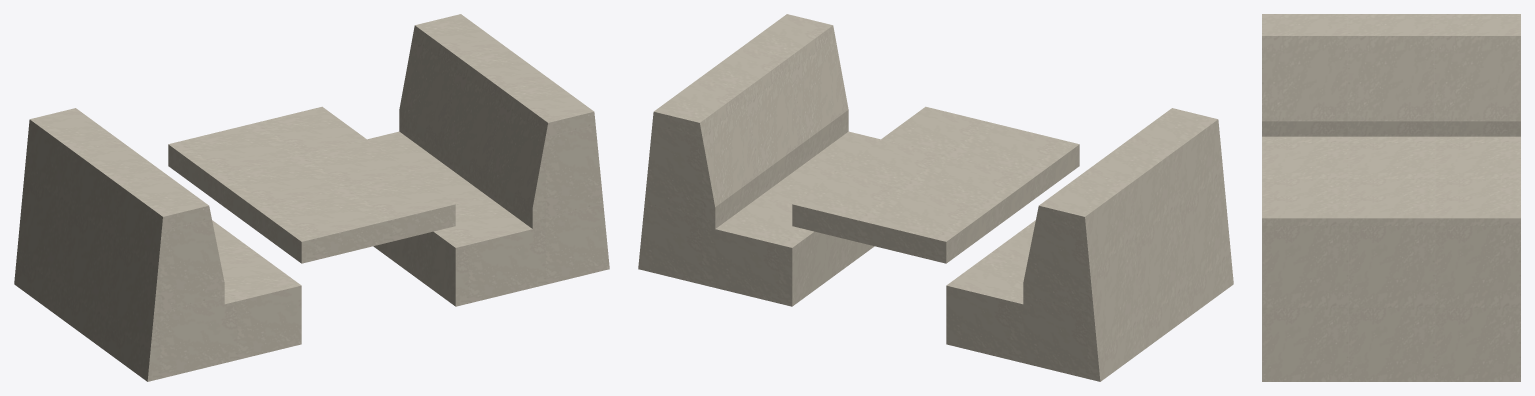
File: resto_big_table.fbx
The picture shows the model from 3 angles, left to right: view 1: azimuth 30°, elevation 25°; view 2: azimuth 150°, elevation 25°; view 3: azimuth 270°, elevation 25°; orthographic projection. The views are drawn at different scales.
Visible parts, largest first — view 1: Mall Wall Mesh (1); view 2: Mall Wall Mesh (1); view 3: Mall Wall Mesh (1).
Part boxes in pixels (x1=…): Mall Wall Mesh (1): x1=14, y1=14, x2=609, y2=381; Mall Wall Mesh (1): x1=638, y1=14, x2=1233, y2=381; Mall Wall Mesh (1): x1=1262, y1=14, x2=1520, y2=381.
Size of the model in its own units: 6 by 2 by 3.
